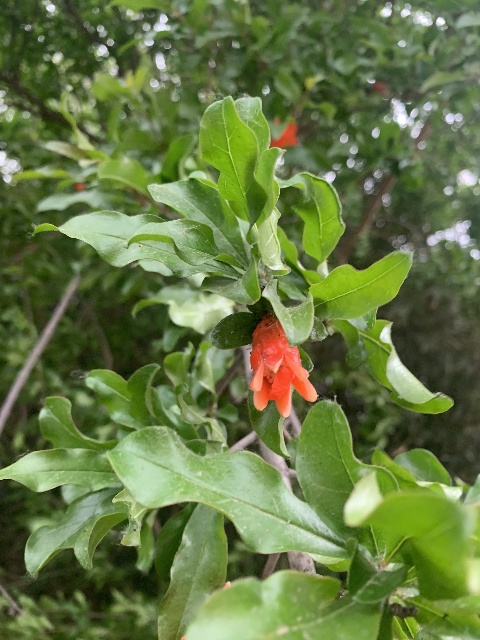flower: (248, 311, 317, 416)
